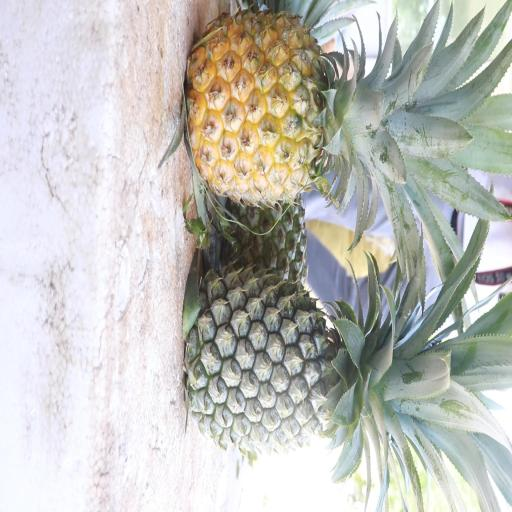Pineapple - v8 v1: (181, 7, 432, 216)
